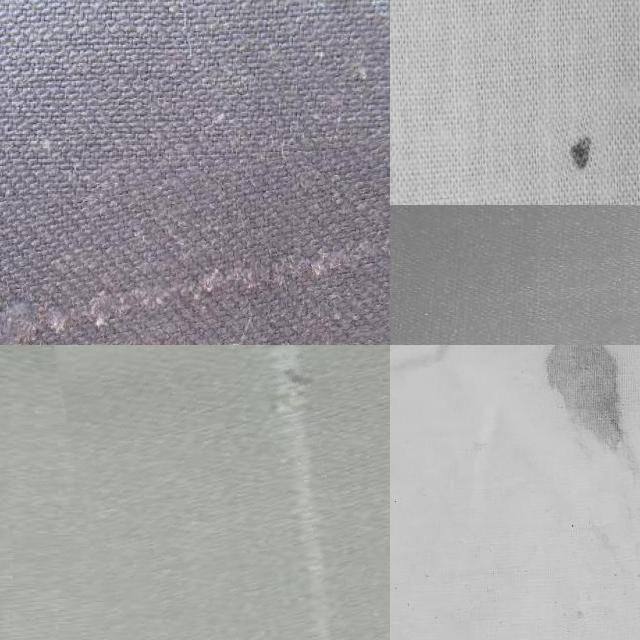Thread_other: (522, 345, 640, 475), (548, 116, 604, 178)
stains: (61, 345, 390, 640), (0, 154, 390, 345)
